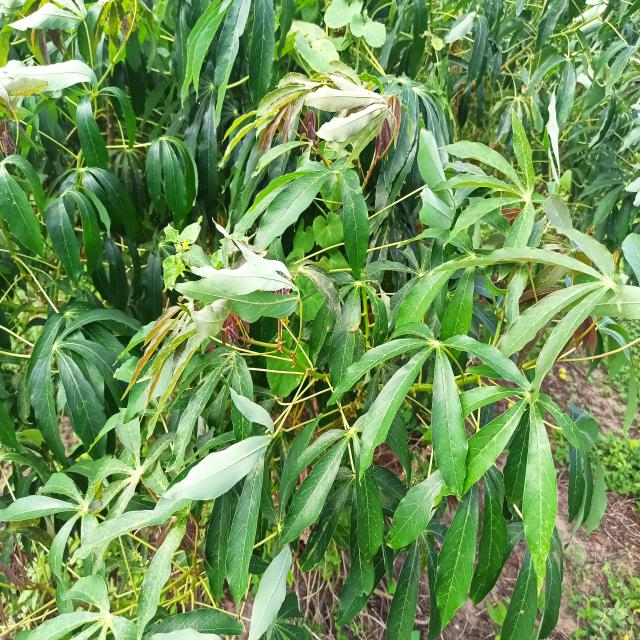Maleza: (585, 564, 640, 640), (318, 0, 387, 51), (308, 209, 346, 259), (606, 442, 640, 497)
Mosca: (516, 603, 527, 625)
